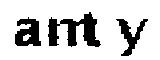a: (8, 17, 44, 52)
m: (45, 16, 88, 49)
t: (82, 7, 106, 49)
y: (115, 13, 148, 60)
